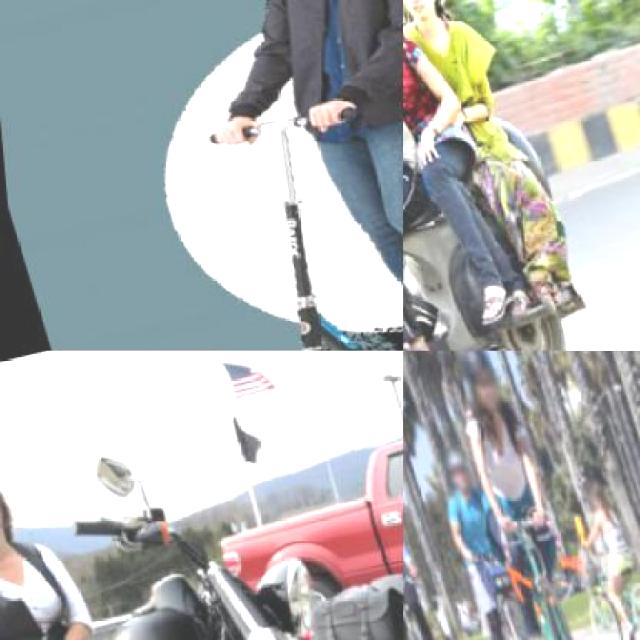With Helmet: (446, 351, 505, 423), (432, 443, 472, 500)
Without Helmet: (0, 460, 23, 542), (402, 0, 455, 35), (575, 479, 607, 519)
